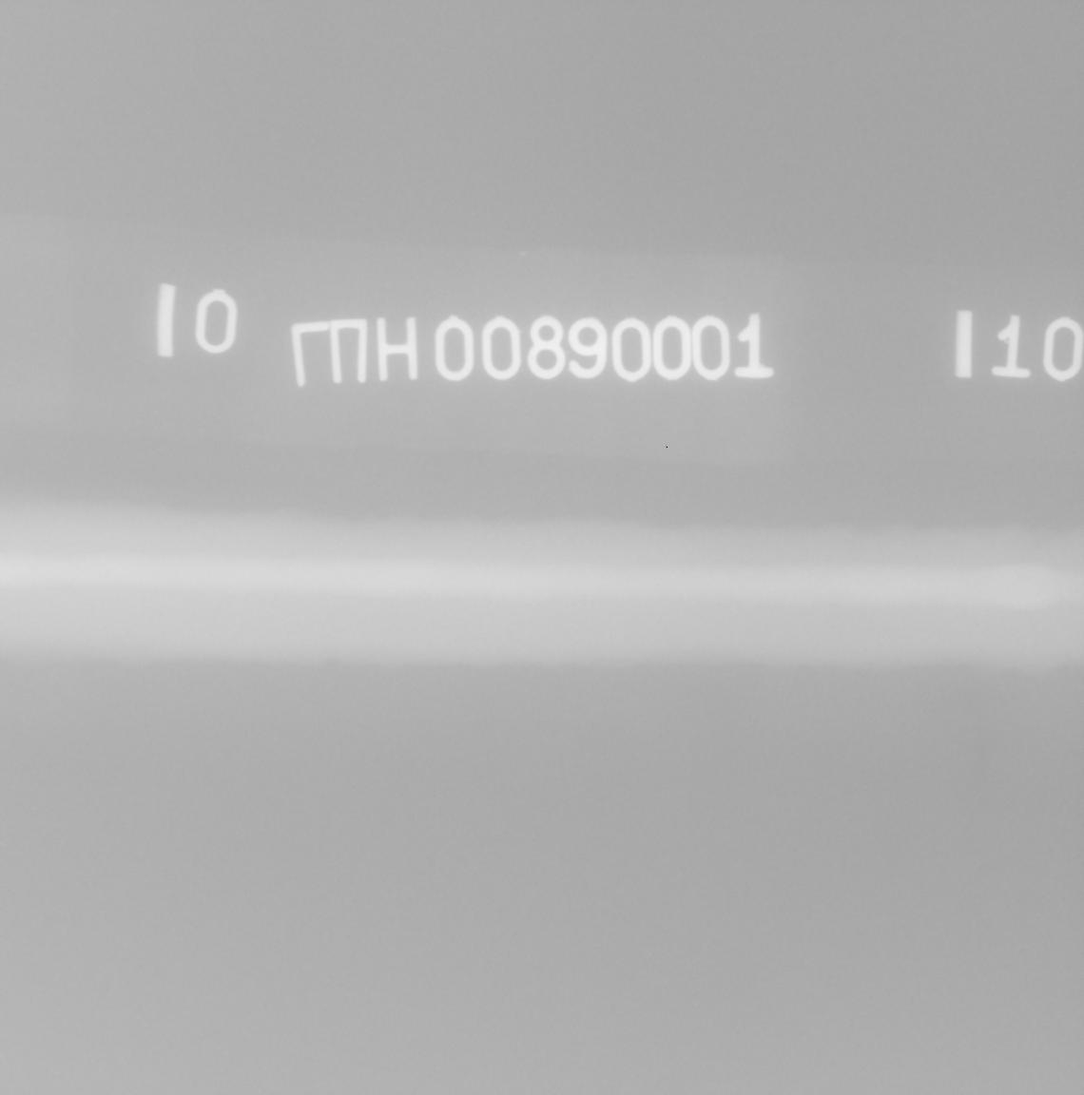Pore/Porosity: (697, 576, 699, 579)
